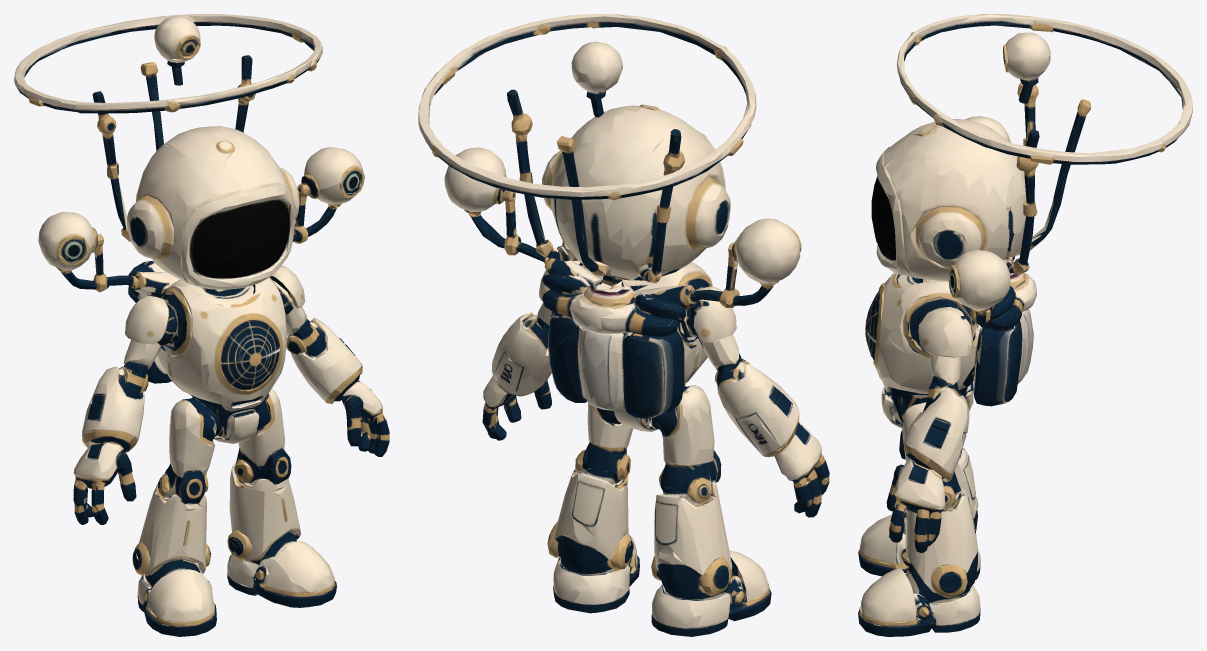
File: prover-model-candidate-02.glb
3 renders of one model, left to right at view 1: azimuth 30°, elevation 25°; view 2: azimuth 150°, elevation 25°; view 3: azimuth 270°, elevation 25°, orthographic. The views are drawn at different scales.
Parts seen in each view (by area): view 1: output_unwrapped; view 2: output_unwrapped; view 3: output_unwrapped.
Part boxes in pixels (x1=…): output_unwrapped: x1=14, y1=14, x2=389, y2=636; output_unwrapped: x1=418, y1=14, x2=829, y2=636; output_unwrapped: x1=858, y1=14, x2=1192, y2=636.
Bounding box in the file's own units: 1.22 × 2 × 1.08.
1 material, 1 textured.
